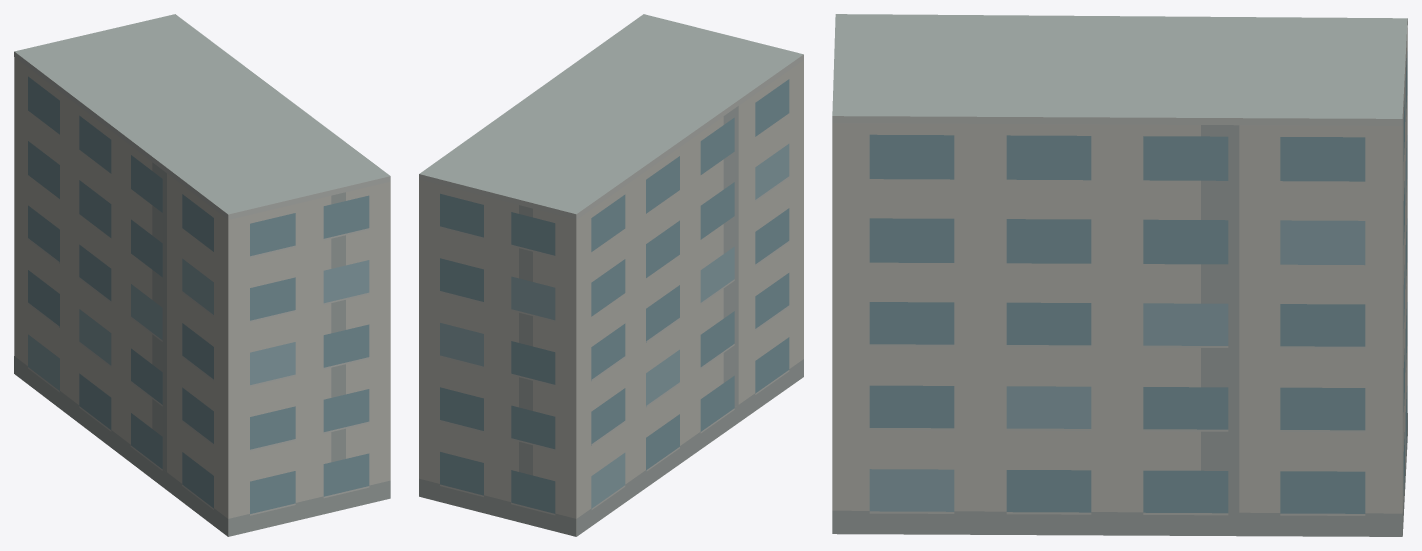
Rendered from survey-upis-32636755.glb.
3 views of the same model, side by side, from view 1: azimuth 30°, elevation 25°; view 2: azimuth 150°, elevation 25°; view 3: azimuth 270°, elevation 25° (orthographic). The views are drawn at different scales.
Visible parts, largest first — view 1: survey-upis-32636755.tmp; view 2: survey-upis-32636755.tmp; view 3: survey-upis-32636755.tmp.
Boxes of the visible parts, box(x1,y1,x2,y2) form: survey-upis-32636755.tmp: box(14, 14, 390, 536); survey-upis-32636755.tmp: box(419, 14, 803, 536); survey-upis-32636755.tmp: box(832, 14, 1407, 536).
Bounding box in the file's own units: 7.76 × 14.4 × 17.98.
